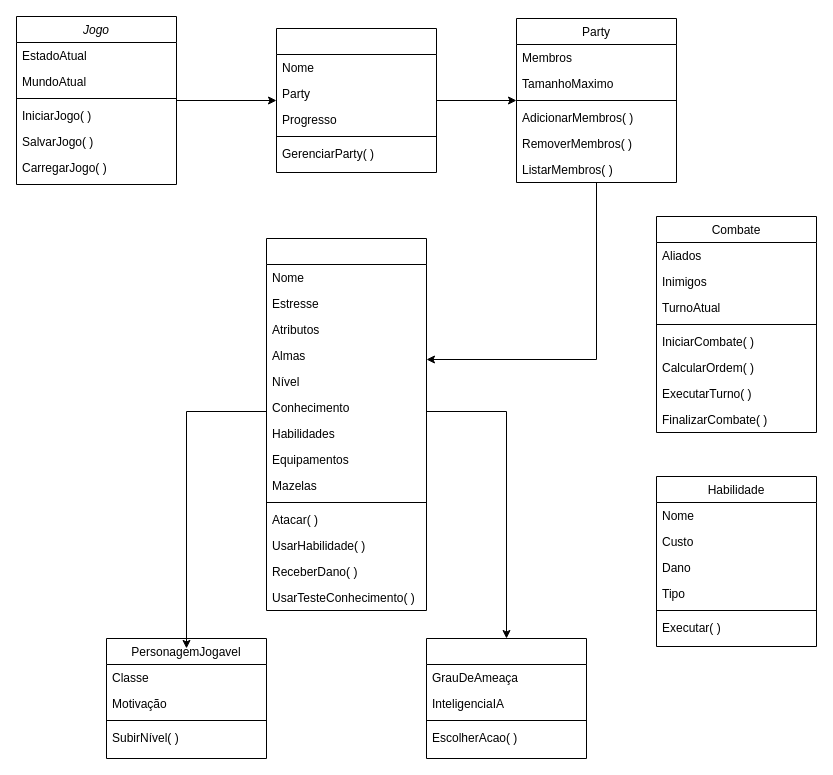
This 833x775 diagram has some shape labels left out. The shapes that lost their labels are listed below. From the top down, each one's box as (x1, y1, x2, y2) in pixels, then its label:
(276, 28, 436, 172): Jogador
(266, 238, 426, 610): Personagem
(426, 638, 586, 758): Inimigo
